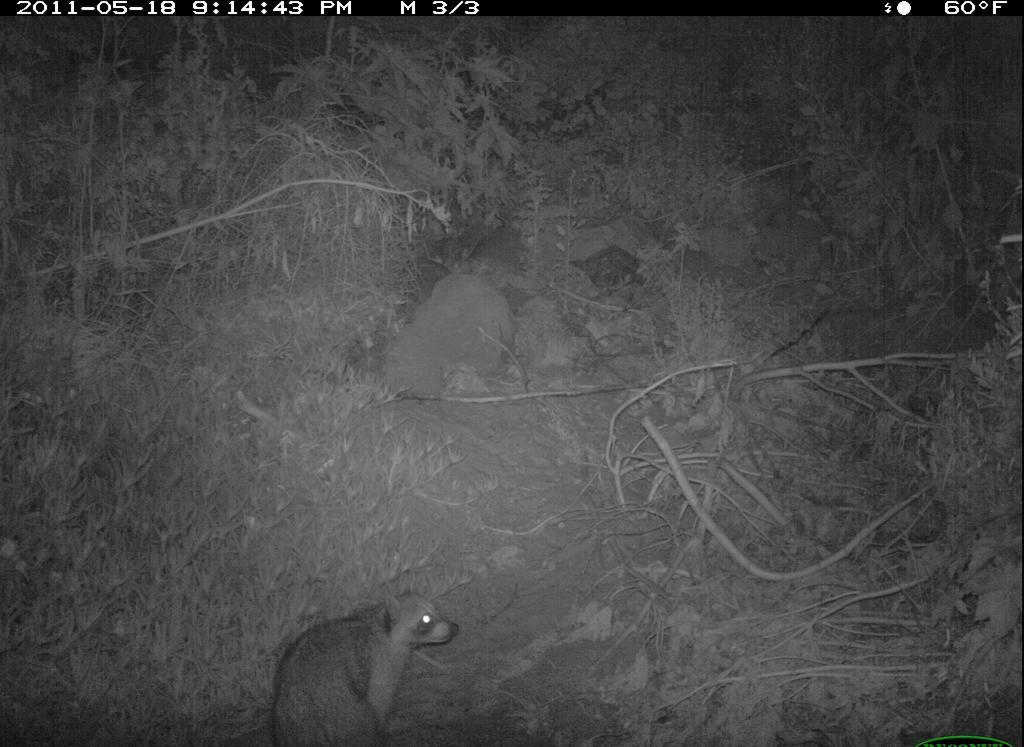raccoon: (259, 579, 470, 745)
